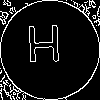H: (25, 25, 63, 72)
